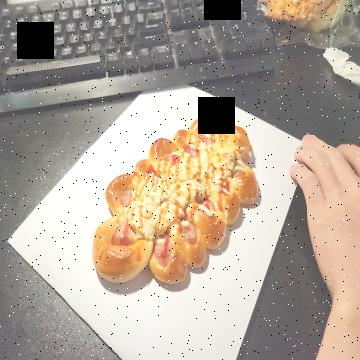pizza_bread: (92, 119, 260, 289)
